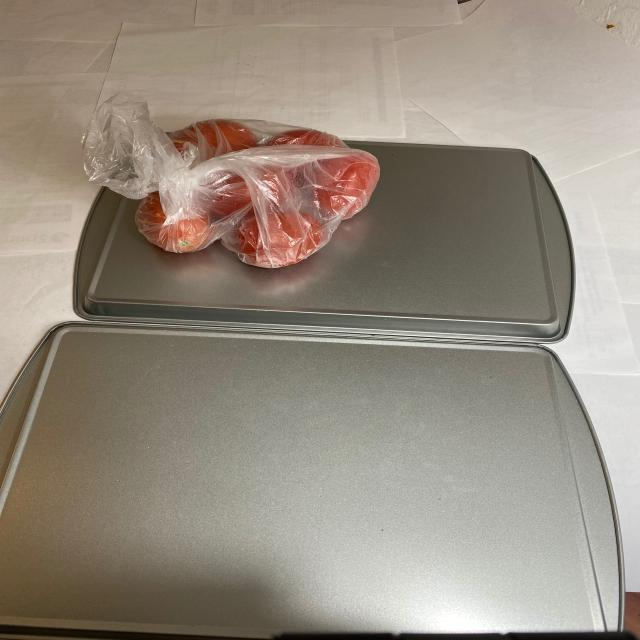tomato: (130, 122, 386, 276)
